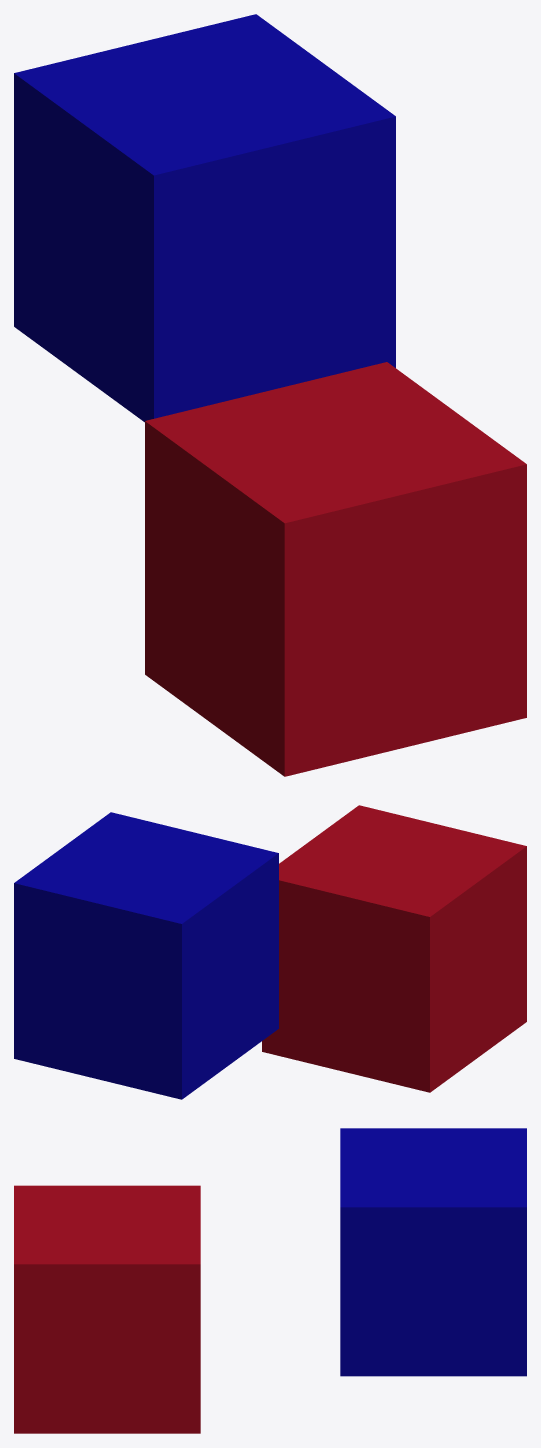
File: demo2.obj
The picture shows the model from 3 angles, top to bottom: view 1: azimuth 30°, elevation 25°; view 2: azimuth 150°, elevation 25°; view 3: azimuth 270°, elevation 25°; orthographic projection. The views are drawn at different scales.
Visible parts, largest first — view 1: Cube.001; view 2: Cube.001; view 3: Cube.001.
Part boxes in pixels (x1,y1,x2,y2): Cube.001: (14, 14, 526, 776); Cube.001: (14, 805, 526, 1099); Cube.001: (14, 1128, 526, 1433).
Bounding box in the file's own units: 2.94 × 3.11 × 5.5.
